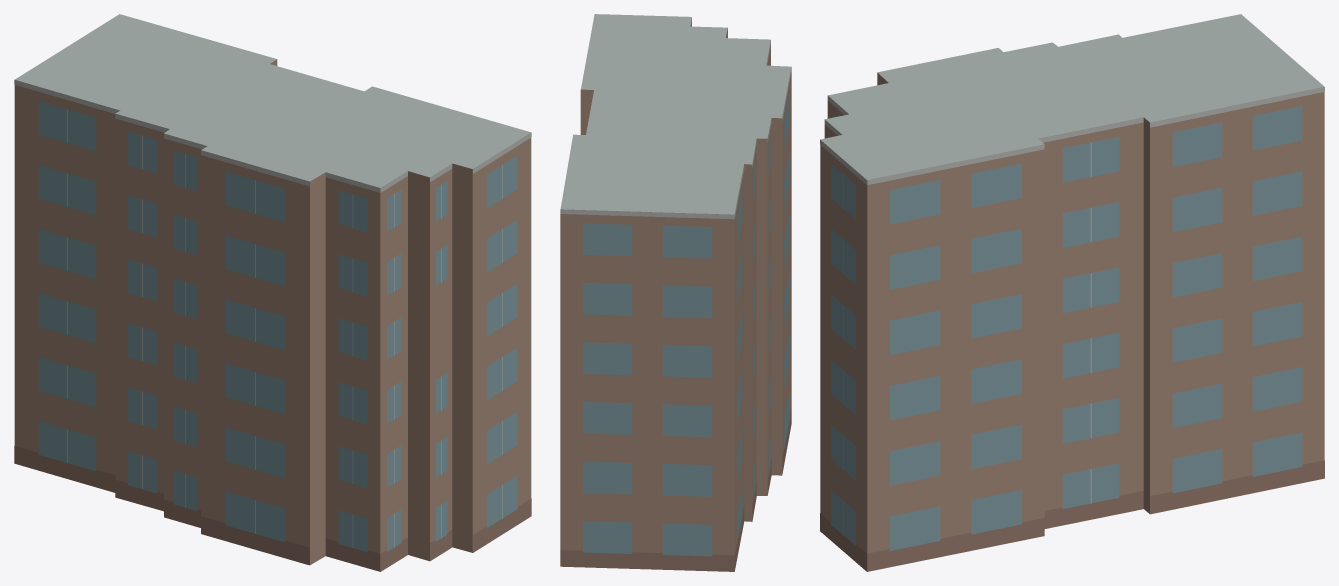
Rendered from survey-upis-32529768.glb.
The picture shows the model from 3 angles, left to right: view 1: azimuth 30°, elevation 25°; view 2: azimuth 150°, elevation 25°; view 3: azimuth 270°, elevation 25°; orthographic projection. The views are drawn at different scales.
Visible parts, largest first — view 1: survey-upis-32529768.tmp; view 2: survey-upis-32529768.tmp; view 3: survey-upis-32529768.tmp.
Part boxes in pixels (box(x1,y1,x2,y2)): survey-upis-32529768.tmp: box(14, 14, 531, 571); survey-upis-32529768.tmp: box(560, 14, 791, 571); survey-upis-32529768.tmp: box(820, 14, 1324, 571).
Size of the model in its own units: 17.2 by 18.9 by 22.08.
